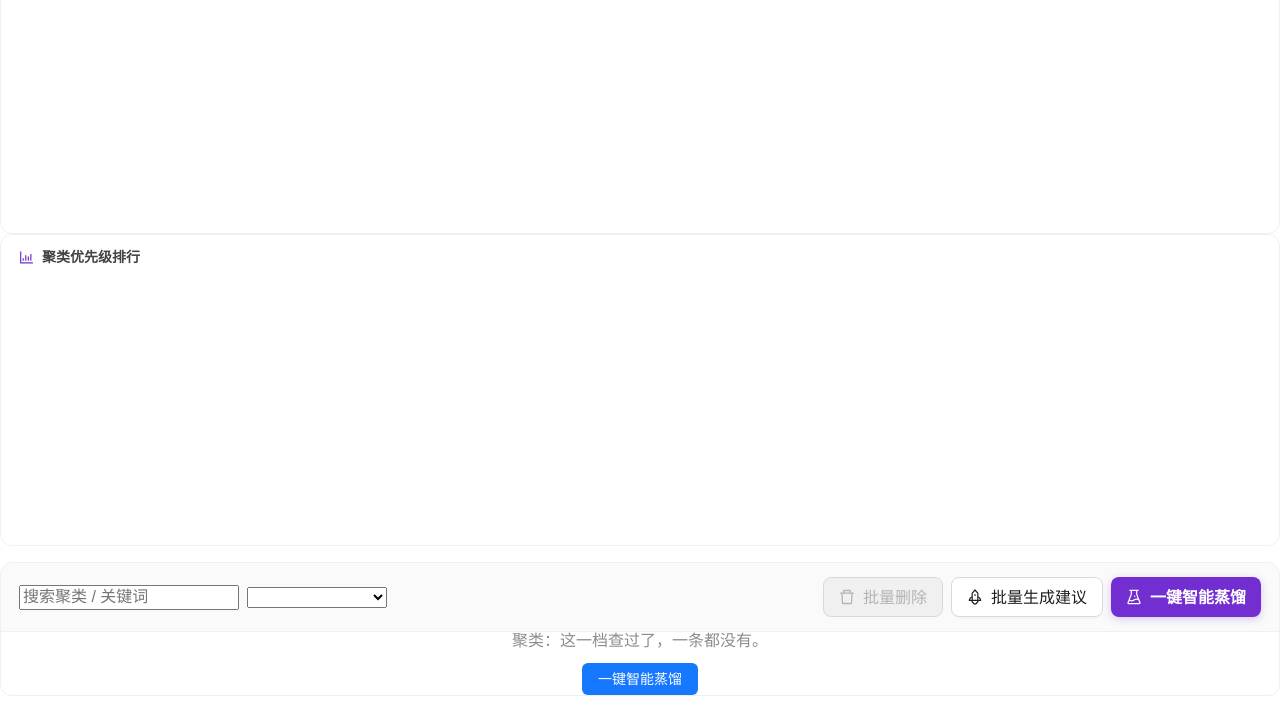
Scenario: ClusterPanel 的空态成因 › 「真的没有」那一档才摆「一键智能蒸馏」，点它真的打得开蒸馏抽屉
This screenshot has width=1280, height=720.
(page scrolled)
Click the button with class "create-on-empty" at [640, 679], box [582,663,698,695]
(page scrolled)
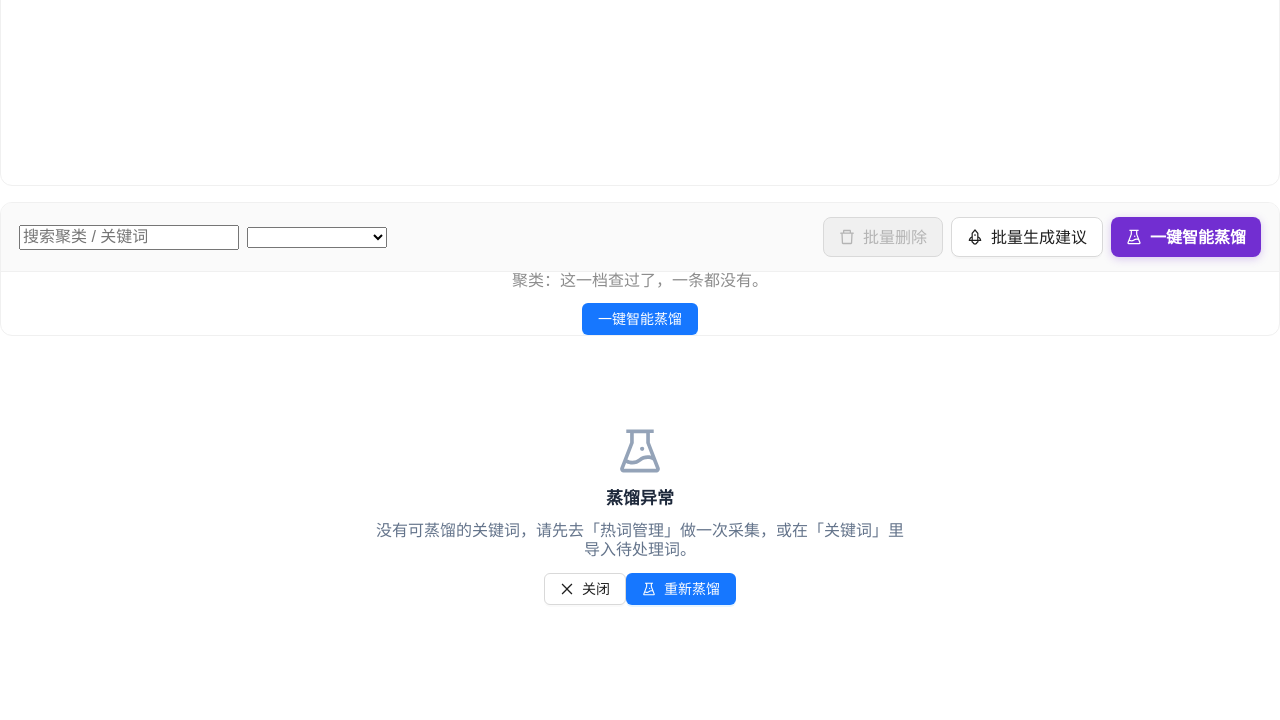
expect the element with class "drawer-open-stub" is shown: met, box [376,427,904,605]
